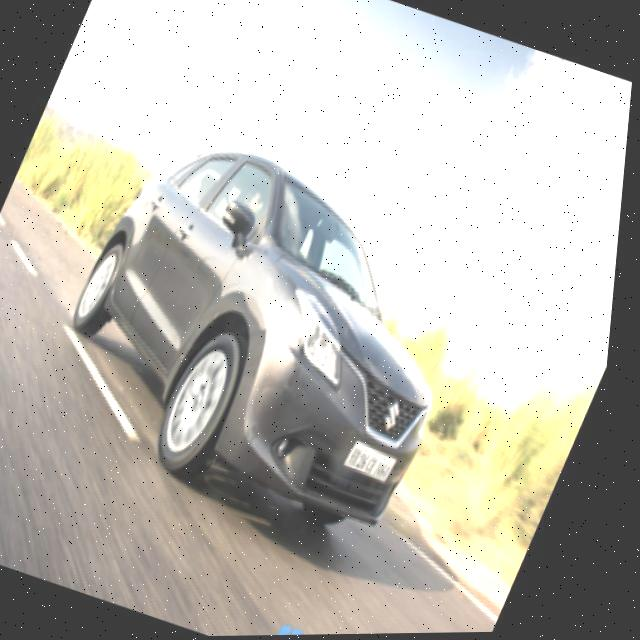license_plate: (342, 427, 423, 492)
